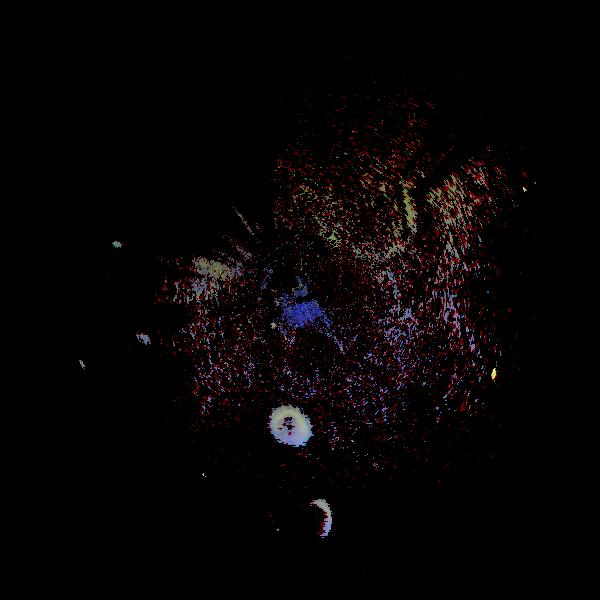roost: (266, 405, 314, 453), (296, 499, 338, 541)
